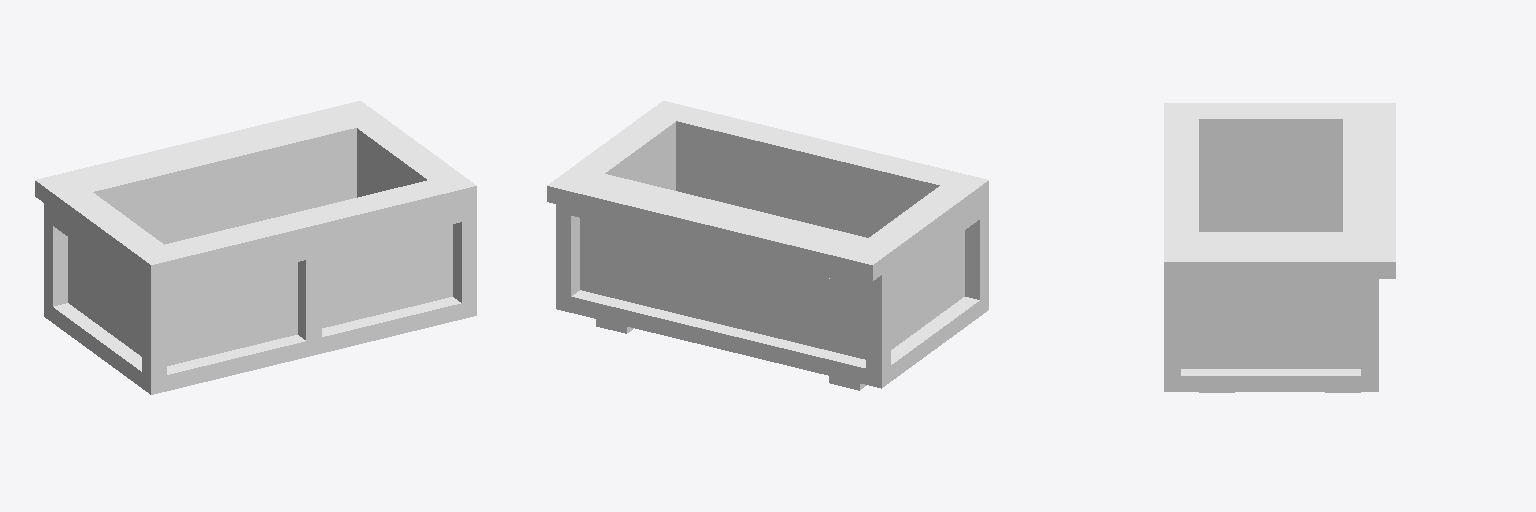
The model's file is GreenChestBottom.obj.
The picture shows the model from 3 angles: view 1: azimuth 30°, elevation 25°; view 2: azimuth 150°, elevation 25°; view 3: azimuth 270°, elevation 25°; orthographic projection.
Visible parts, largest first — view 1: object 1; view 2: object 1; view 3: object 1.
Boxes of the visible parts, <box> form: object 1: <box>35,101,476,394</box>; object 1: <box>547,101,988,390</box>; object 1: <box>1164,103,1395,392</box>.
Size of the model in its own units: 2.1 by 0.9 by 1.3.